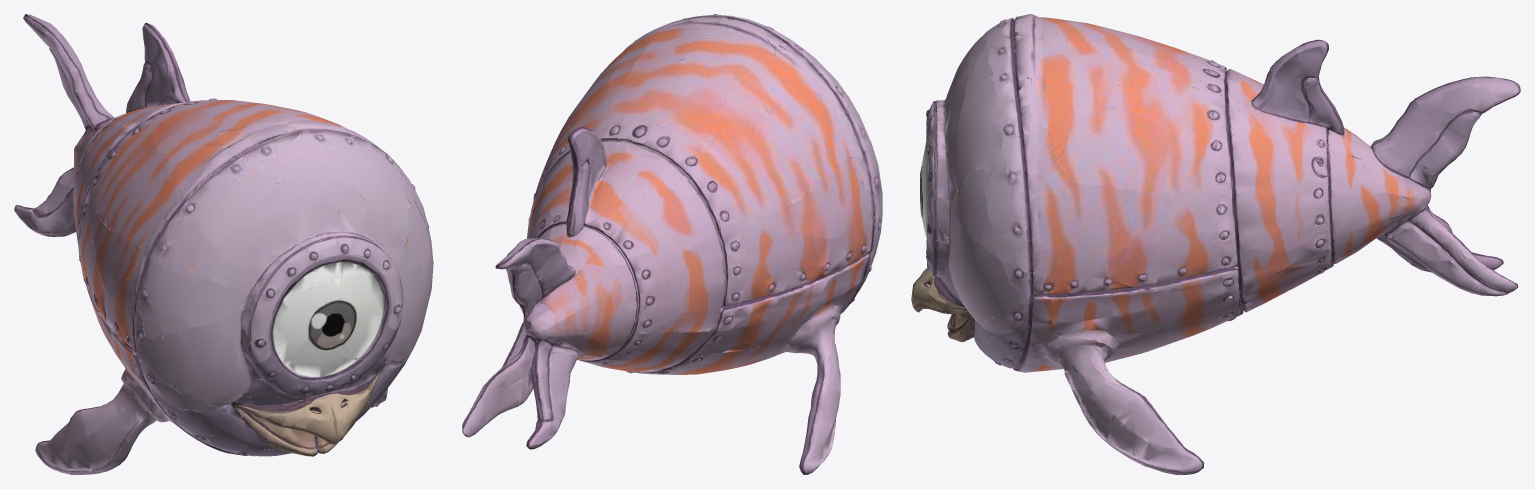
3 views of the same model, side by side, from view 1: azimuth 30°, elevation 25°; view 2: azimuth 150°, elevation 25°; view 3: azimuth 270°, elevation 25° (orthographic).
Parts seen in each view (by area): view 1: Mesh_0; view 2: Mesh_0; view 3: Mesh_0.
Part boxes in pixels (bbox=[...]): Mesh_0: bbox=[14, 14, 433, 474]; Mesh_0: bbox=[462, 14, 882, 474]; Mesh_0: bbox=[911, 14, 1520, 474].
Size of the model in its own units: 1.18 by 1.27 by 1.9.
Materials: 1 (1 with a texture image).
